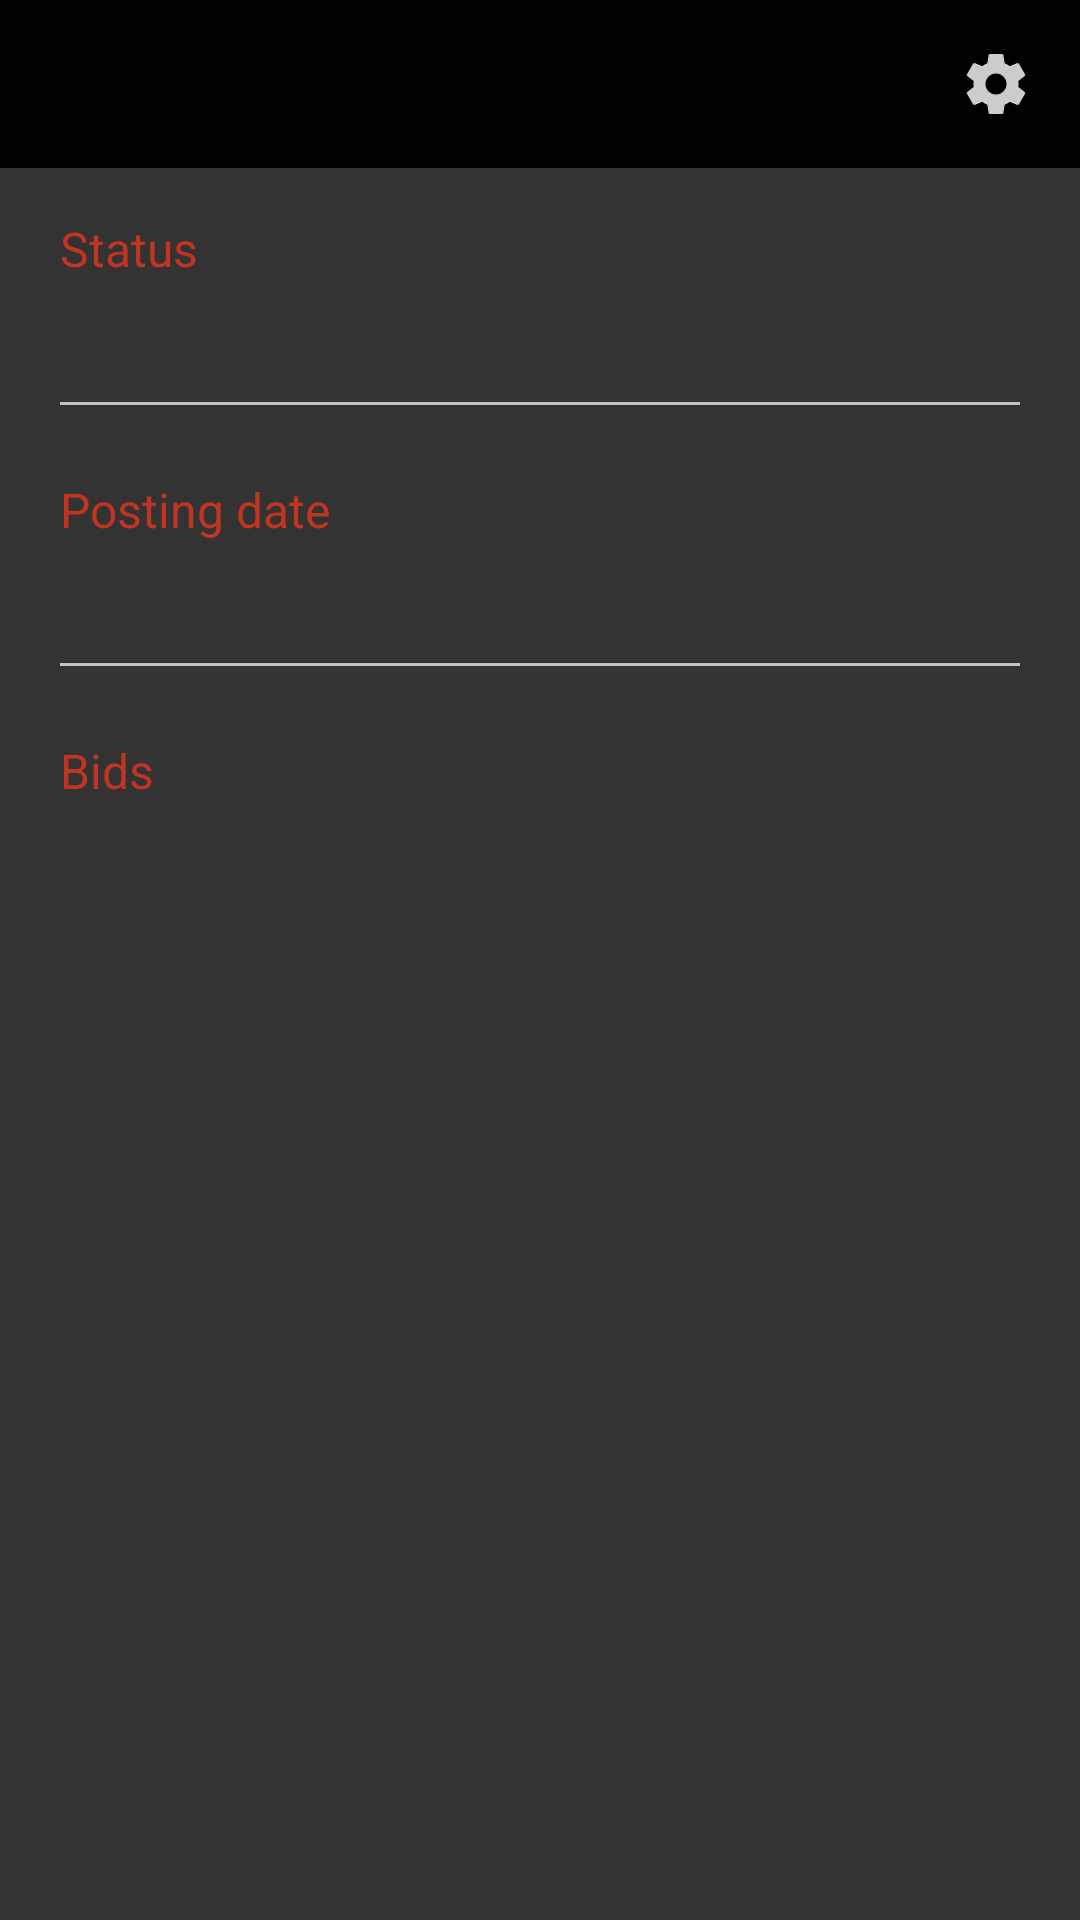

Where icons sit on this 1080px x 1920px app screen, as bbox(x1, y1, x2, y2):
settings: bbox(966, 54, 1025, 114)
